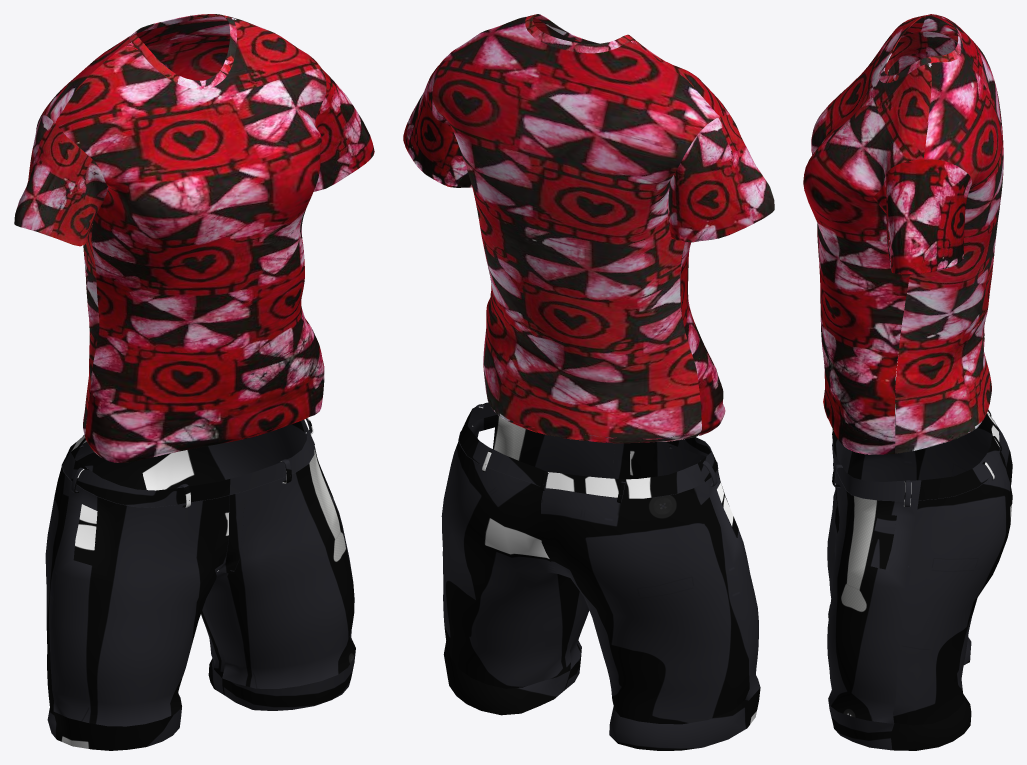
The model's file is tshirt_and_material_shorts.glb.
3 views of the same model, side by side, from view 1: azimuth 30°, elevation 25°; view 2: azimuth 150°, elevation 25°; view 3: azimuth 270°, elevation 25° (orthographic). The views are drawn at different scales.
Parts seen in each view (by area): view 1: all, all_two; view 2: all, all_two; view 3: all, all_two.
Part boxes in pixels (box(x1,y1,x2,y2)): all: box(14, 14, 374, 462); all_two: box(45, 418, 355, 750); all: box(403, 14, 774, 443); all_two: box(441, 402, 760, 750); all: box(803, 14, 1003, 454); all_two: box(827, 380, 1012, 750).
Bounding box in the file's own units: 0.3837 × 0.689 × 0.1999.
2 materials, 2 textured.
